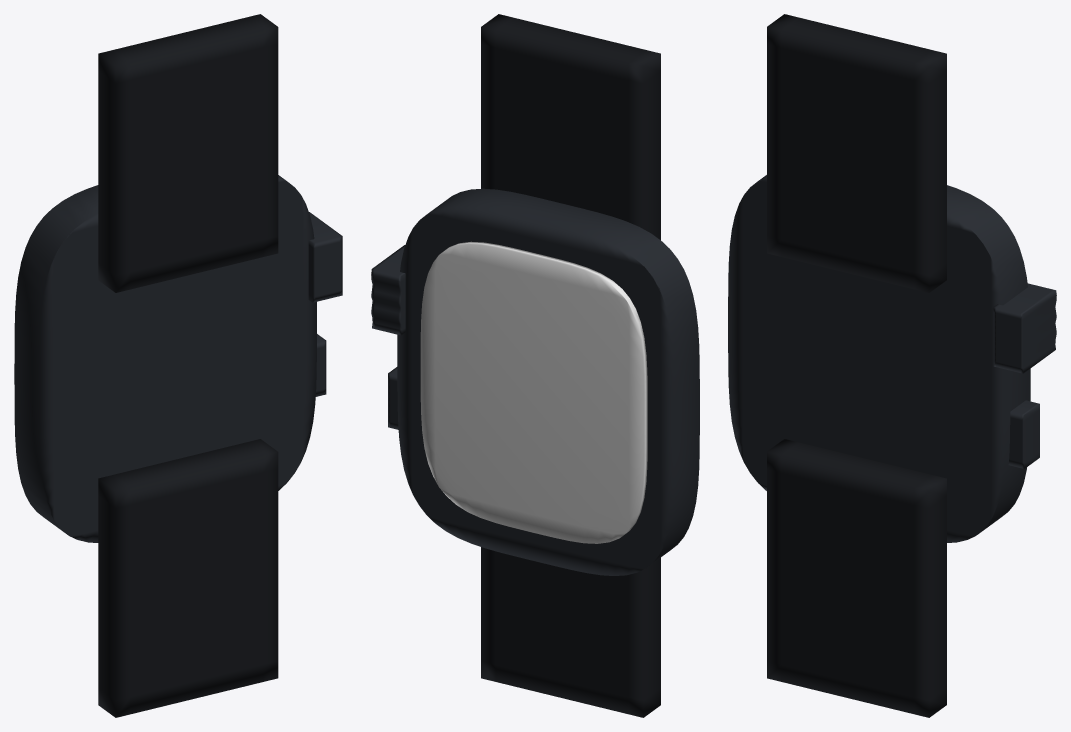
Rendered from ROKAS_Smartwatch_HighDetail.fbx.
3 renders of one model, left to right at view 1: azimuth 30°, elevation 25°; view 2: azimuth 150°, elevation 25°; view 3: azimuth 330°, elevation 25°, orthographic.
Visible parts, largest first — view 1: Watch_TitaniumCase, Watch_Strap_Top, Watch_Strap_Bottom, Watch_DigitalCrown_Rotary, Watch_SideConfirmButton; view 2: Watch_SapphireGlass, Watch_TitaniumCase, Watch_Strap_Top, Watch_Strap_Bottom, Watch_DigitalCrown_Rotary, Watch_SideConfirmButton; view 3: Watch_TitaniumCase, Watch_Strap_Top, Watch_Strap_Bottom, Watch_DigitalCrown_Rotary, Watch_SideConfirmButton.
Boxes of the visible parts, x1=… form: Watch_TitaniumCase: x1=14, y1=175, x2=316, y2=542; Watch_Strap_Top: x1=98, y1=14, x2=278, y2=292; Watch_Strap_Bottom: x1=98, y1=439, x2=278, y2=717; Watch_DigitalCrown_Rotary: x1=308, y1=212, x2=342, y2=302; Watch_SideConfirmButton: x1=315, y1=334, x2=326, y2=396; Watch_SapphireGlass: x1=420, y1=241, x2=647, y2=543; Watch_TitaniumCase: x1=397, y1=188, x2=699, y2=575; Watch_Strap_Top: x1=481, y1=14, x2=660, y2=240; Watch_Strap_Bottom: x1=481, y1=547, x2=660, y2=717; Watch_DigitalCrown_Rotary: x1=371, y1=245, x2=405, y2=335; Watch_SideConfirmButton: x1=388, y1=367, x2=398, y2=429; Watch_TitaniumCase: x1=728, y1=175, x2=1030, y2=542; Watch_Strap_Top: x1=767, y1=14, x2=946, y2=292; Watch_Strap_Bottom: x1=767, y1=439, x2=946, y2=717; Watch_DigitalCrown_Rotary: x1=993, y1=283, x2=1056, y2=373; Watch_SideConfirmButton: x1=1008, y1=400, x2=1039, y2=468.
Size of the model in its own units: 4.42 by 9.2 by 1.25.
